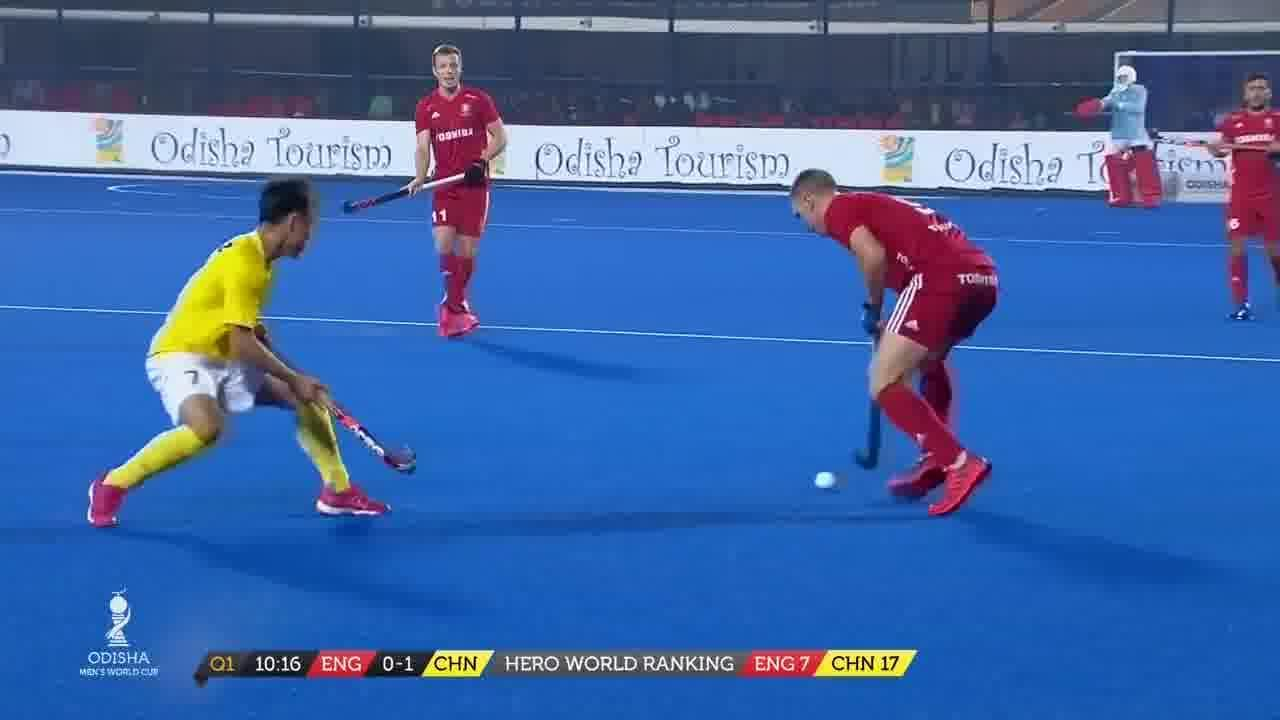ball: (810, 464, 846, 506)
